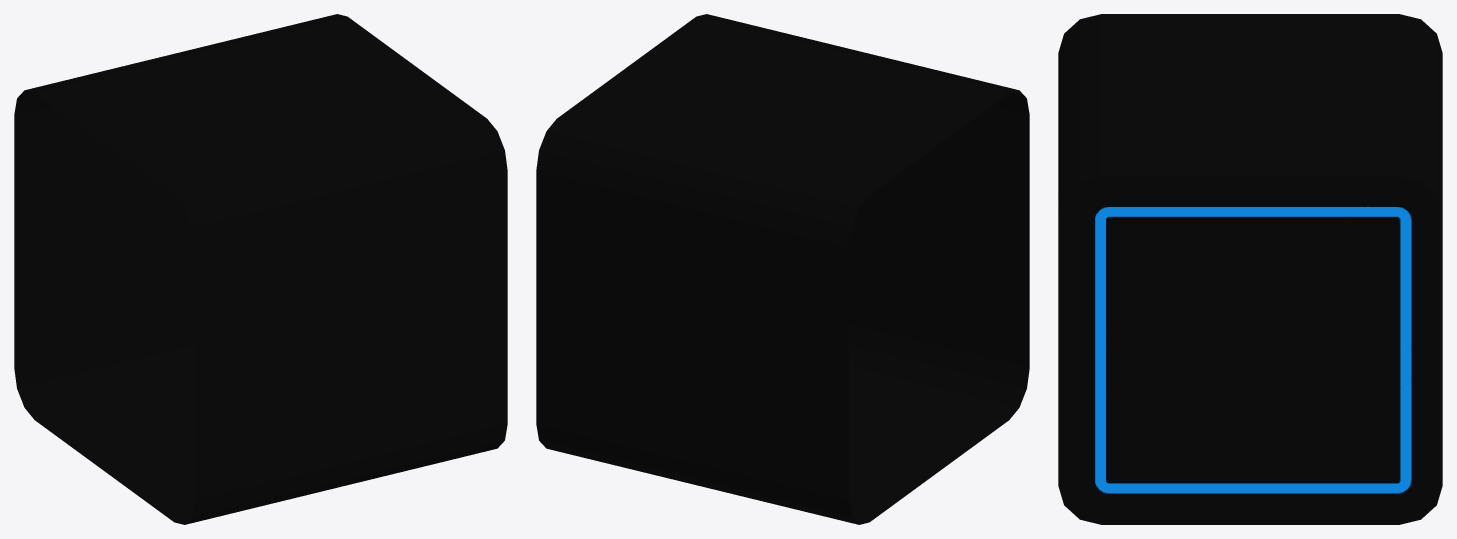
File: Button.gltf
3 views of the same model, side by side, from view 1: azimuth 30°, elevation 25°; view 2: azimuth 150°, elevation 25°; view 3: azimuth 270°, elevation 25° (orthographic). The views are drawn at different scales.
Parts seen in each view (by area): view 1: Cube; view 2: Cube; view 3: Cube.
Part boxes in pixels (x1,y1,x2,y2): Cube: (14,14,507,524); Cube: (536,14,1029,524); Cube: (1058,14,1442,524).
Bounding box in the file's own units: 0.65 × 0.65 × 0.65.
Materials: 1 (1 with a texture image).
